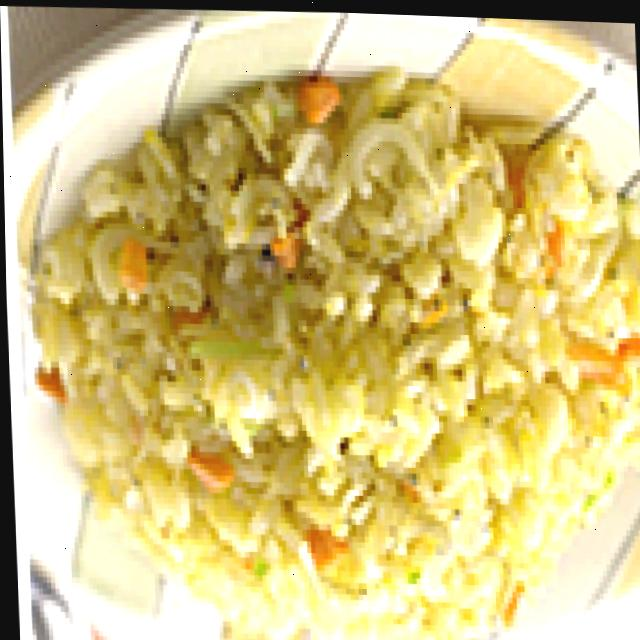米饭主食: (44, 1, 640, 640)
